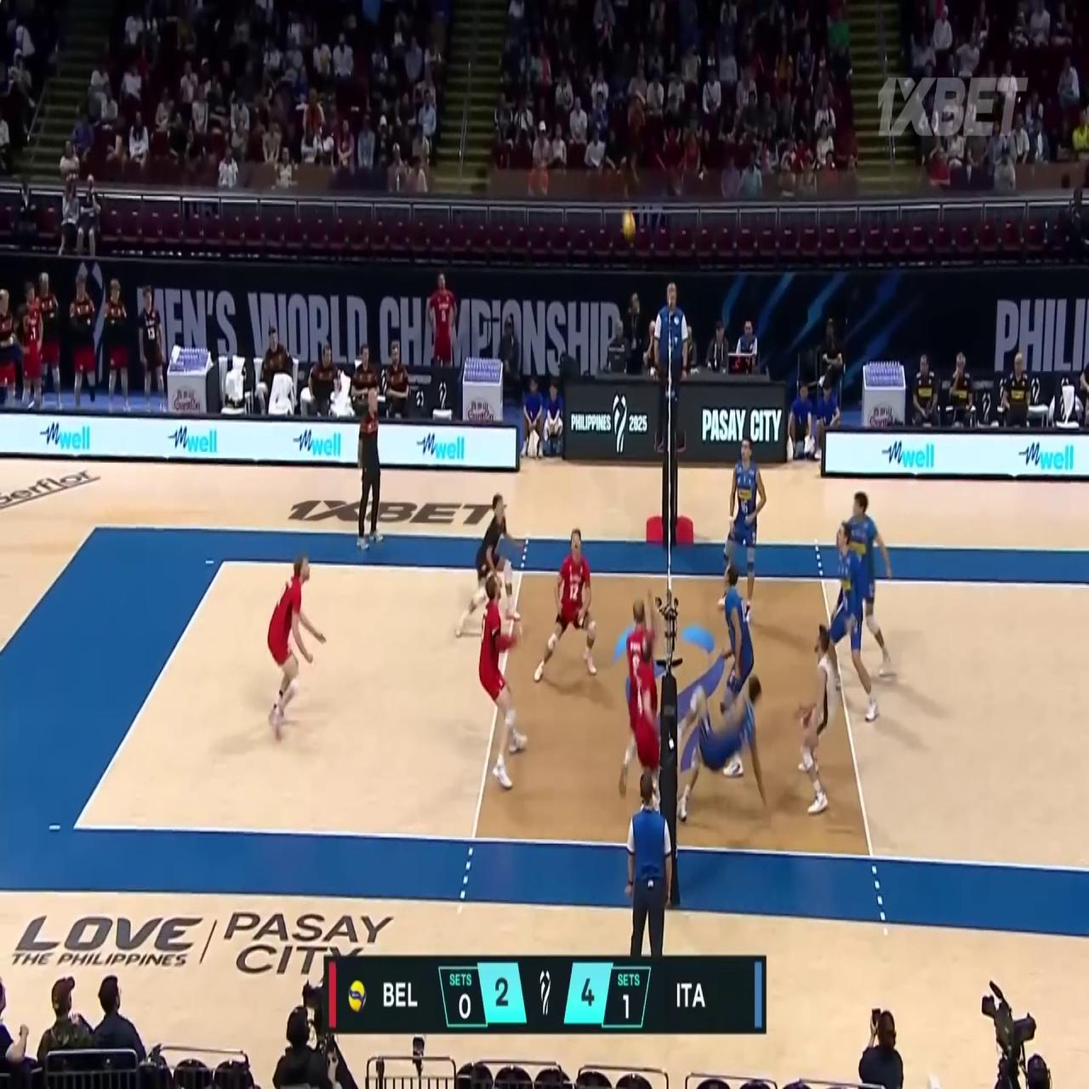ball: (620, 210, 636, 238)
